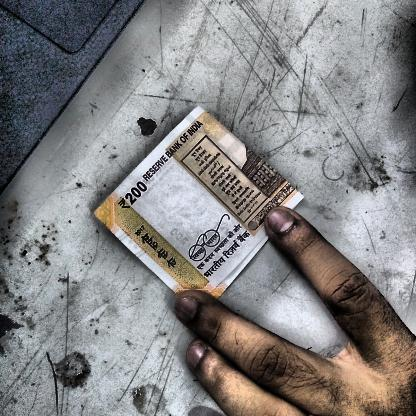Rs200: (114, 178, 151, 215)
